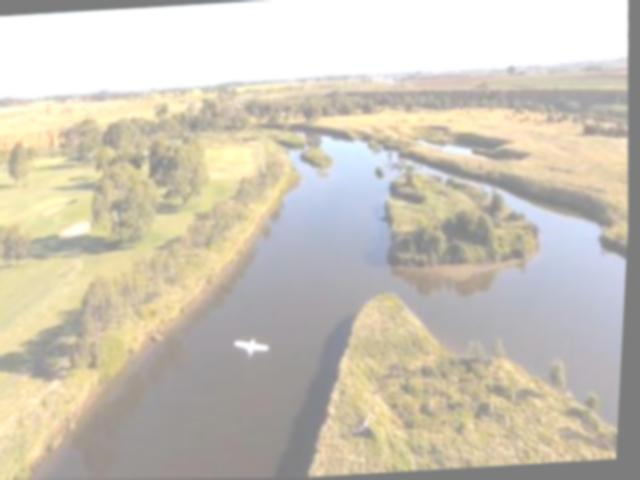uav: (235, 335, 273, 362)
